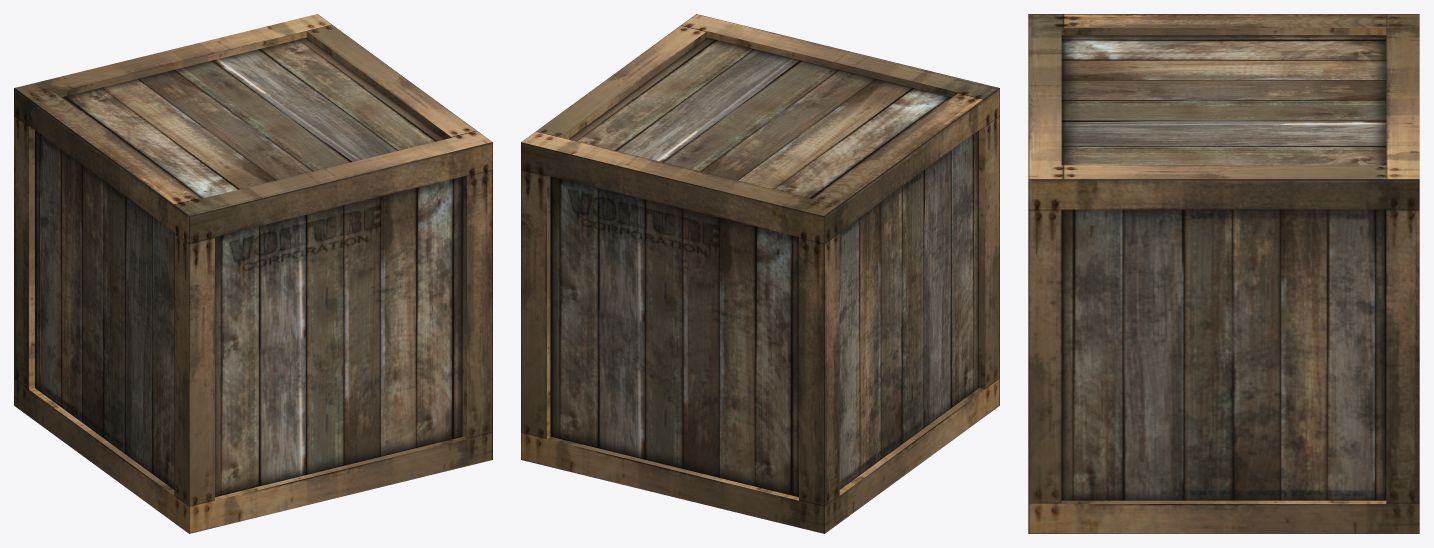
Rendered from woodContainer_1.dae.
3 renders of one model, left to right at view 1: azimuth 30°, elevation 25°; view 2: azimuth 150°, elevation 25°; view 3: azimuth 270°, elevation 25°, orthographic. The views are drawn at different scales.
Parts seen in each view (by area): view 1: Mesh; view 2: Mesh; view 3: Mesh.
Boxes of the visible parts, x1,y1,x2,y2 form: Mesh: (14,14,492,533); Mesh: (521,14,999,533); Mesh: (1028,14,1419,533).
Bounding box in the file's own units: 2 × 2 × 2.
Materials: 1 (1 with a texture image).
